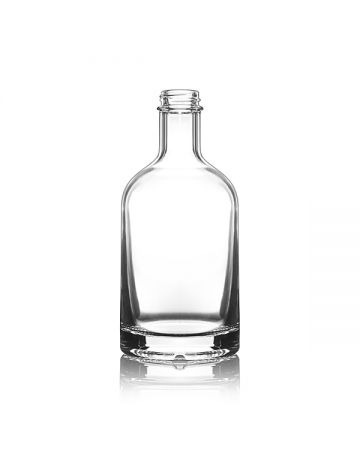container: (116, 86, 244, 372)
